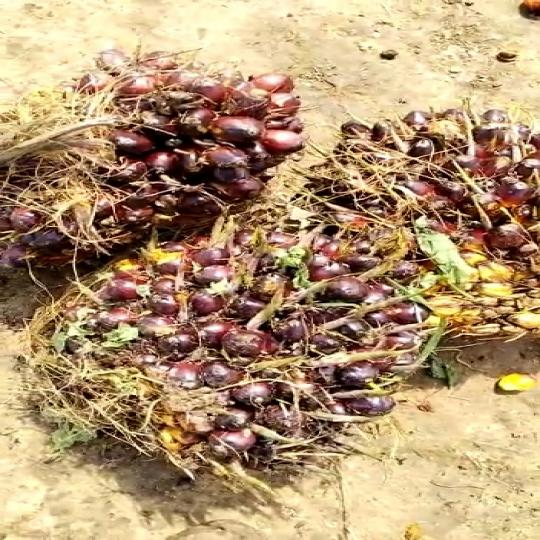kurang masak: (46, 205, 424, 503), (2, 50, 297, 262), (303, 102, 540, 346)
